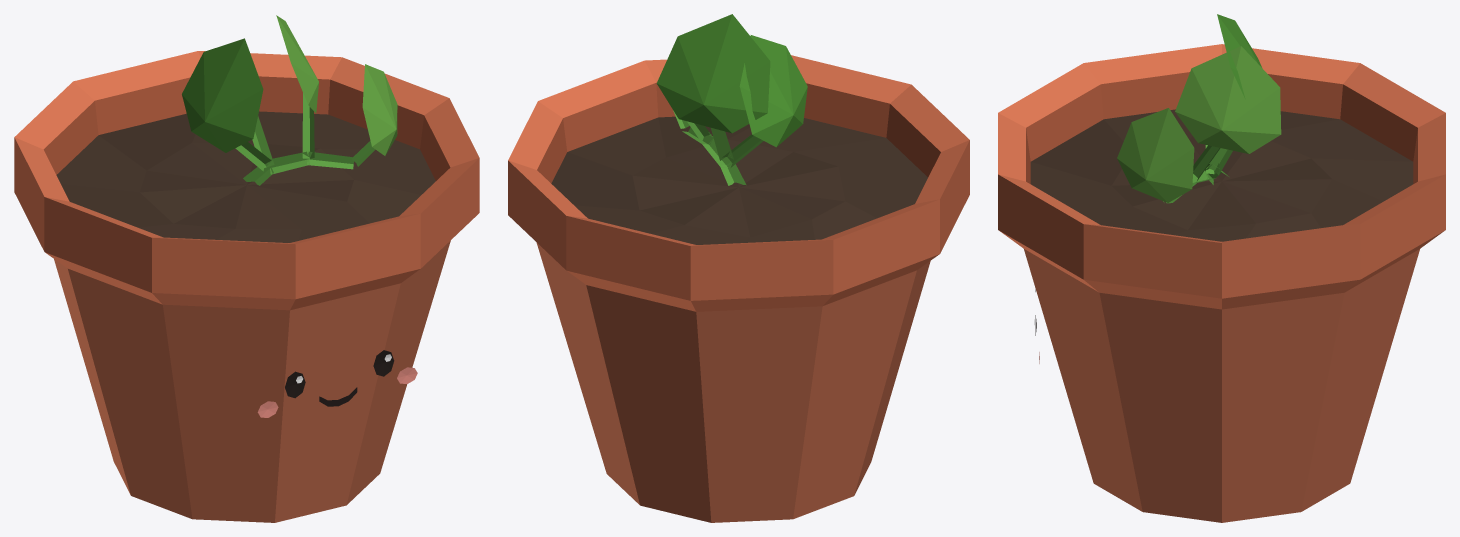
Rendered from pumpkin_2.glb.
3 renders of one model, left to right at view 1: azimuth 30°, elevation 25°; view 2: azimuth 150°, elevation 25°; view 3: azimuth 270°, elevation 25°, orthographic.
Visible parts, largest first — view 1: Pumpkin_Stage2_Vine; view 2: Pumpkin_Stage2_Vine; view 3: Pumpkin_Stage2_Vine.
Part boxes in pixels (left/top/right/bottom): Pumpkin_Stage2_Vine: left=14, top=15, right=479, bottom=522; Pumpkin_Stage2_Vine: left=508, top=14, right=969, bottom=522; Pumpkin_Stage2_Vine: left=998, top=14, right=1445, bottom=522.
Size of the model in its own units: 1.92 by 2.05 by 1.83.
